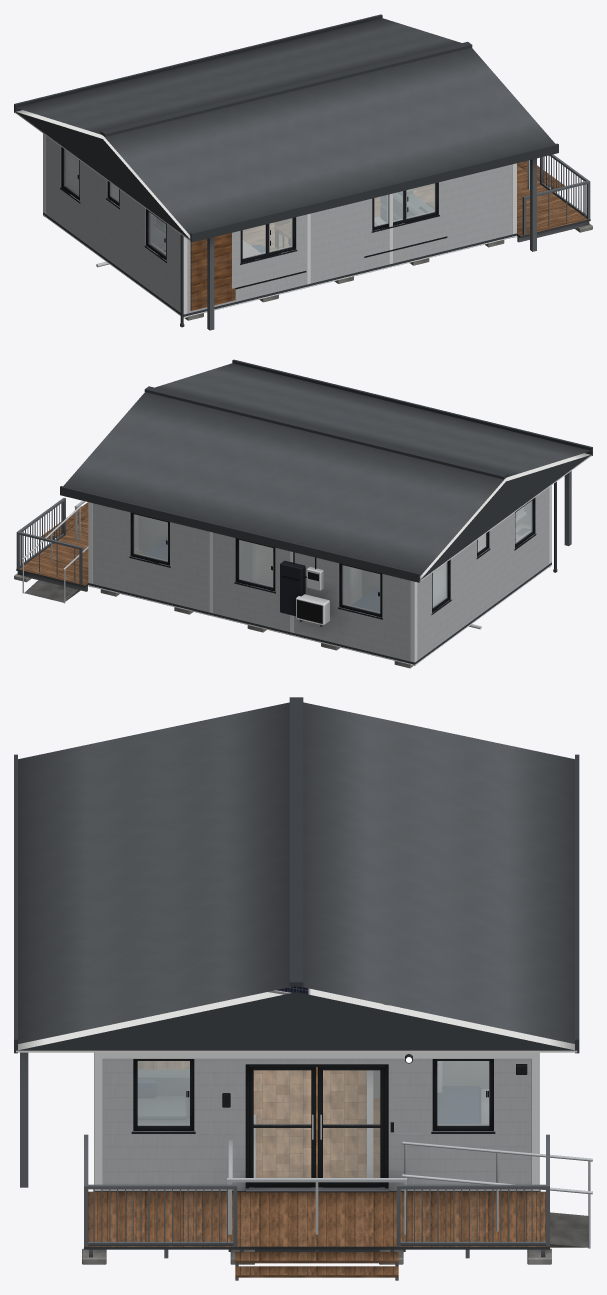
The model's file is Studio30_Production.glb.
3 renders of one model, top to bottom at view 1: azimuth 30°, elevation 25°; view 2: azimuth 150°, elevation 25°; view 3: azimuth 270°, elevation 25°, orthographic. The views are drawn at different scales.
Visible parts, largest first — view 1: RoofSlopingUpgrade, ExteriorPanelsStandard, WindowsStandard, WindowsLargeUpgrade, TerraceDeck, ExteriorPanelsPremium, BaseFrame, TopFrame, FloorSPCUpgrade, FurnitureStaging, BedroomWardrobes, KitchenAppliancePackage; view 2: RoofSlopingUpgrade, ExteriorPanelsStandard, WindowsStandard, WindowsLargeUpgrade, TerraceDeck, BedroomWalls, BaseFrame, TopFrame, SolarPrep, AccessibilityVillage, LayoutS30TwoBed, HVACIndoorUnit (+2 smaller); view 3: RoofSlopingUpgrade, TerraceDeck, ExteriorPanelsStandard, EntryDoor, FloorSPCUpgrade, WindowsStandard, WindowsLargeUpgrade, FurnitureStaging, AccessibilityVillage, RoofMain, TopFrame, BedroomWardrobes (+1 smaller).
Boxes of the visible parts, x1=… form: RoofSlopingUpgrade: x1=14, y1=14, x2=558, y2=330; ExteriorPanelsStandard: x1=45, y1=135, x2=512, y2=313; WindowsStandard: x1=60, y1=147, x2=446, y2=288; WindowsLargeUpgrade: x1=61, y1=149, x2=447, y2=289; TerraceDeck: x1=517, y1=154, x2=592, y2=242; ExteriorPanelsPremium: x1=190, y1=233, x2=235, y2=310; BaseFrame: x1=43, y1=212, x2=516, y2=318; TopFrame: x1=43, y1=133, x2=516, y2=314; FloorSPCUpgrade: x1=243, y1=184, x2=434, y2=250; FurnitureStaging: x1=380, y1=189, x2=434, y2=222; BedroomWardrobes: x1=66, y1=151, x2=78, y2=194; KitchenAppliancePackage: x1=150, y1=213, x2=165, y2=247; RoofSlopingUpgrade: x1=60, y1=359, x2=592, y2=582; ExteriorPanelsStandard: x1=92, y1=487, x2=549, y2=661; WindowsStandard: x1=129, y1=498, x2=536, y2=619; WindowsLargeUpgrade: x1=130, y1=501, x2=533, y2=617; TerraceDeck: x1=14, y1=498, x2=88, y2=591; BedroomWalls: x1=139, y1=516, x2=361, y2=604; BaseFrame: x1=88, y1=562, x2=551, y2=665; TopFrame: x1=88, y1=485, x2=551, y2=662; SolarPrep: x1=280, y1=552, x2=323, y2=616; AccessibilityVillage: x1=21, y1=500, x2=85, y2=602; LayoutS30TwoBed: x1=253, y1=543, x2=379, y2=596; HVACIndoorUnit: x1=296, y1=594, x2=329, y2=627; RoofSlopingUpgrade: x1=14, y1=697, x2=579, y2=1187; TerraceDeck: x1=82, y1=1134, x2=551, y2=1280; ExteriorPanelsStandard: x1=102, y1=1059, x2=531, y2=1190; EntryDoor: x1=245, y1=1064, x2=388, y2=1192; FloorSPCUpgrade: x1=138, y1=1061, x2=380, y2=1177; WindowsStandard: x1=131, y1=1059, x2=495, y2=1133; WindowsLargeUpgrade: x1=133, y1=1059, x2=493, y2=1130; FurnitureStaging: x1=138, y1=1070, x2=488, y2=1123; AccessibilityVillage: x1=227, y1=1140, x2=592, y2=1251; RoofMain: x1=94, y1=1052, x2=539, y2=1058; TopFrame: x1=94, y1=1053, x2=539, y2=1190; BedroomWardrobes: x1=442, y1=1061, x2=488, y2=1088.
Bounding box in the file's own units: 11.95 × 3.88 × 8.5.
48 materials, 22 textured.
